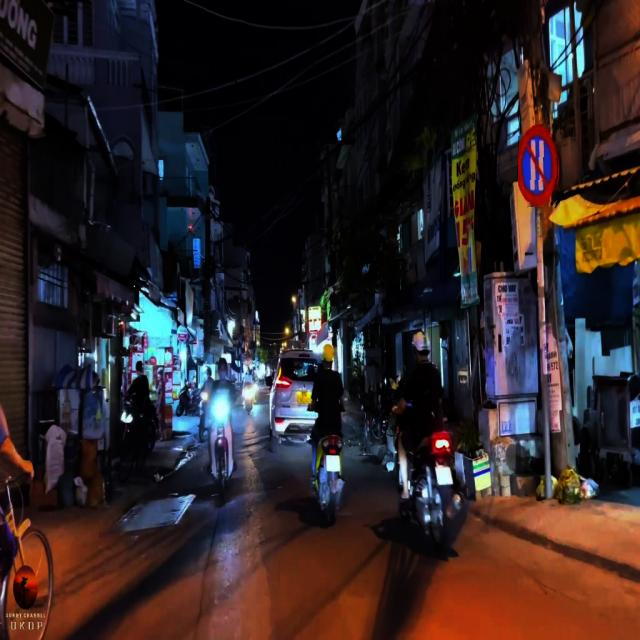cam_do_xe: (518, 124, 560, 208)
